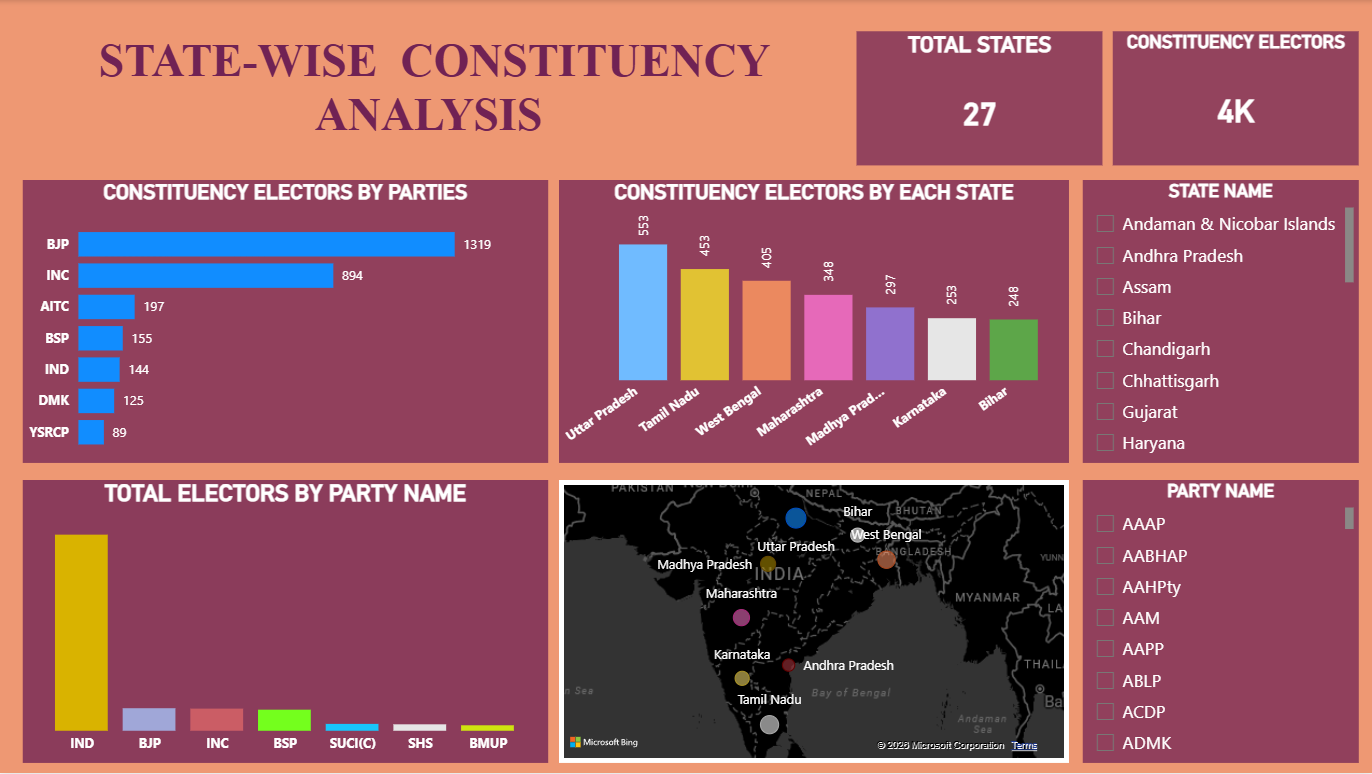

What the dashboard file says about the page in this screenshot:
{"tool":"powerbi","page":{"name":"Page 1","canvas":[1280,720],"ordinal":0},"visuals":[{"type":"textbox","box":[22,9.6,765.7,144.1],"z":0},{"type":"card","title":"TOTAL STATES","fields":{"Values":["Count(2019_Indian_National_Election_Constituency_Wise_Detailed_Result. State Name )"]},"box":[797.3,28.8,229.2,124.9],"z":1000},{"type":"card","title":"CONSTITUENCY ELECTORS","fields":{"Values":["Sum(2019_Indian_National_Election_Constituency_Wise_Detailed_Result.OVER TOTAL ELECTORS IN CONSTITUENCY VOTE %)"]},"box":[1036,28.8,229.2,124.9],"z":2000},{"type":"clusteredColumnChart","title":"CONSTITUENCY ELECTORS BY EACH STATE","fields":{"Category":["2019_Indian_National_Election_Constituency_Wise_Detailed_Result. State Name "],"Y":["Sum(2019_Indian_National_Election_Constituency_Wise_Detailed_Result.OVER TOTAL ELECTORS IN CONSTITUENCY VOTE %)"]},"box":[521.4,167.4,474.8,263.5],"z":3000},{"type":"map","title":"CONSTITUENCY ELECTORS BY ","fields":{"Category":["2019_Indian_National_Election_Constituency_Wise_Detailed_Result. State Name "],"Size":["Sum(2019_Indian_National_Election_Constituency_Wise_Detailed_Result.OVER TOTAL ELECTORS IN CONSTITUENCY VOTE %)"]},"box":[521.4,446,474.8,263.5],"z":4000},{"type":"clusteredBarChart","title":"CONSTITUENCY ELECTORS BY PARTIES","fields":{"Y":["Sum(2019_Indian_National_Election_Constituency_Wise_Detailed_Result.OVER TOTAL ELECTORS IN CONSTITUENCY VOTE %)"],"Category":["2019_Indian_National_Election_Constituency_Wise_Detailed_Result.PARTY NAME "]},"box":[22,167.4,488.5,263.5],"z":5000},{"type":"clusteredColumnChart","title":"TOTAL ELECTORS  BY PARTY NAME","fields":{"Category":["2019_Indian_National_Election_Constituency_Wise_Detailed_Result.PARTY NAME "],"Y":["Sum(2019_Indian_National_Election_Constituency_Wise_Detailed_Result.Total Electors VOTE %)"]},"box":[22,446,488.5,263.5],"z":6000},{"type":"slicer","title":"STATE NAME","fields":{"Values":["2019_Indian_National_Election_Constituency_Wise_Detailed_Result. State Name "]},"box":[1008.6,167.4,256.6,263.5],"z":7000},{"type":"slicer","title":"PARTY NAME","fields":{"Values":["2019_Indian_National_Election_Constituency_Wise_Detailed_Result.PARTY NAME "]},"box":[1008.6,446,256.6,263.5],"z":8000}]}

Visuals, with their boxes in screenshot pixels (x1, y1, x2, y2), scaled from the page's 1280x720 canvas onto the 1372x774 screenshot:
textbox: l=24, t=10, r=844, b=165
"TOTAL STATES" card: l=855, t=31, r=1100, b=165
"CONSTITUENCY ELECTORS" card: l=1110, t=31, r=1356, b=165
"CONSTITUENCY ELECTORS BY EACH STATE" clusteredColumnChart: l=559, t=180, r=1068, b=463
"CONSTITUENCY ELECTORS BY " map: l=559, t=479, r=1068, b=763
"CONSTITUENCY ELECTORS BY PARTIES" clusteredBarChart: l=24, t=180, r=547, b=463
"TOTAL ELECTORS  BY PARTY NAME" clusteredColumnChart: l=24, t=479, r=547, b=763
"STATE NAME" slicer: l=1081, t=180, r=1356, b=463
"PARTY NAME" slicer: l=1081, t=479, r=1356, b=763
